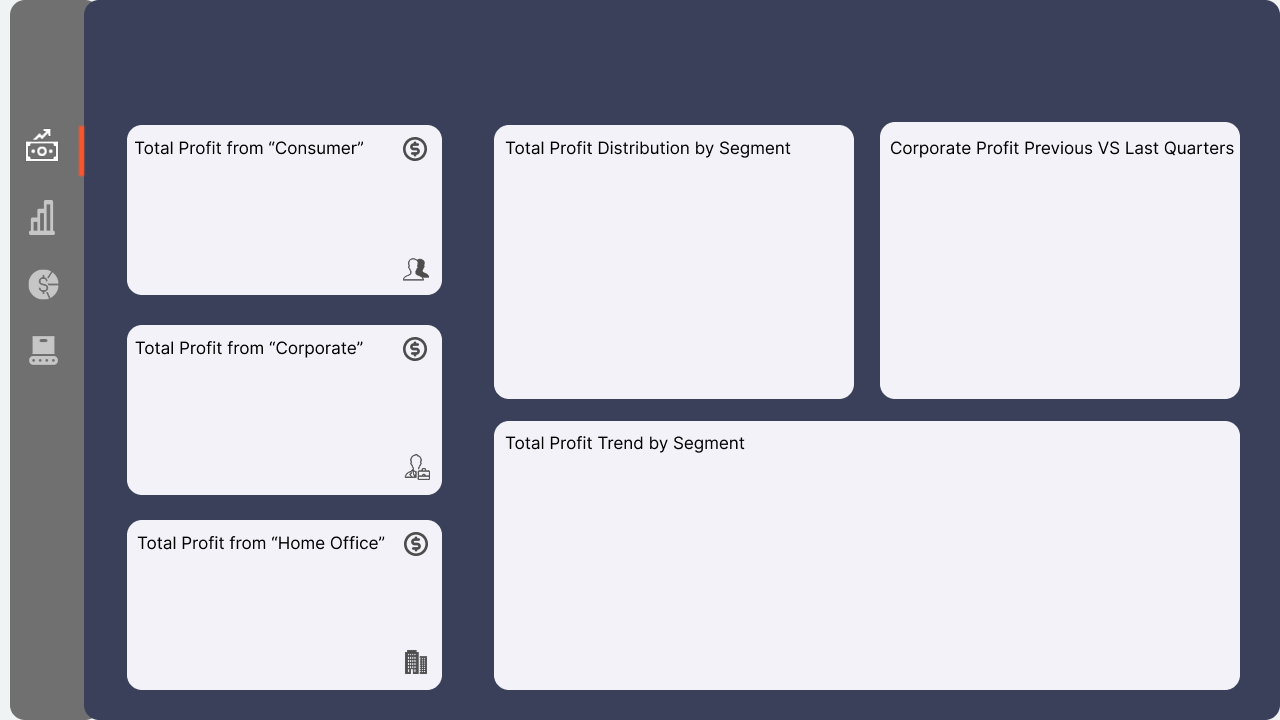

Layout of this report page (visuals, bound fields, positions):
{"tool":"powerbi","page":{"name":"Page 1","canvas":[1280,720],"ordinal":0},"visuals":[{"type":"donutChart","fields":{"Category":["Customers.Segment"],"Y":["Sum(SalesTransaction.Profit)"]},"box":[502.5,154.3,348.2,230.7],"z":0},{"type":"clusteredColumnChart","fields":{"Category":["SalesTransaction.Ship Date.Variation.Date Hierarchy.Year","SalesTransaction.Ship Date.Variation.Date Hierarchy.Quarter","SalesTransaction.Ship Date.Variation.Date Hierarchy.Month","SalesTransaction.Ship Date.Variation.Date Hierarchy.Day"],"Y":["Sum(SalesTransaction.Profit)"],"Series":["Customers.Segment"]},"box":[503.3,440,736.7,253.3],"z":1000},{"type":"card","fields":{"Values":["SalesTransaction.Overall Profit of Consumers"]},"box":[127.8,122,314.4,170.4],"z":2000},{"type":"card","fields":{"Values":["SalesTransaction.Total Profit of Corporate"]},"box":[126.4,320.3,315.9,171.9],"z":3000},{"type":"card","fields":{"Values":["SalesTransaction.Total Profit of Home Office"]},"box":[126.4,517.2,315.9,170.4],"z":4000},{"type":"kpi","title":"Corporate Profit Last and Previous Quarter Change ","fields":{"Indicator":["SalesTransaction.Corporate Profit Last Quarter"],"TrendLine":["SalesTransaction.Ship Date"],"Goal":["SalesTransaction.Corporate Profit Previous Quarter"]},"box":[883.3,116.7,361.7,285],"z":5000},{"type":"textbox","box":[127.8,26.4,1112.3,73.5],"z":6000},{"type":"actionButton","box":[11.8,186.6,70.5,55.8],"z":7000},{"type":"actionButton","box":[11.8,254.2,70.5,55.8],"z":8000},{"type":"actionButton","box":[11.8,320.3,70.5,55.8],"z":9000}]}

Visuals, with their boxes on the page's 1280x720 design canvas (x1, y1, x2, y2). These are canvas units, not pixel positions in the 1280x720 screenshot, which may show the page scaled, cropped or inside an application window:
donutChart - Customers.Segment x Sum(SalesTransaction.Profit): l=502, t=154, r=851, b=385
clusteredColumnChart - SalesTransaction.Ship Date.Variation.Date Hierarchy.Year x SalesTransaction.Ship Date.Variation.Date Hierarchy.Quarter: l=503, t=440, r=1240, b=693
card - SalesTransaction.Overall Profit of Consumers: l=128, t=122, r=442, b=292
card - SalesTransaction.Total Profit of Corporate: l=126, t=320, r=442, b=492
card - SalesTransaction.Total Profit of Home Office: l=126, t=517, r=442, b=688
"Corporate Profit Last and Previous Quarter Change " kpi: l=883, t=117, r=1245, b=402
textbox: l=128, t=26, r=1240, b=100
actionButton: l=12, t=187, r=82, b=242
actionButton: l=12, t=254, r=82, b=310
actionButton: l=12, t=320, r=82, b=376
